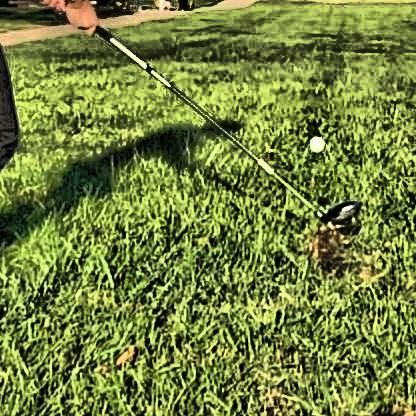golfball: (305, 132, 322, 151)
